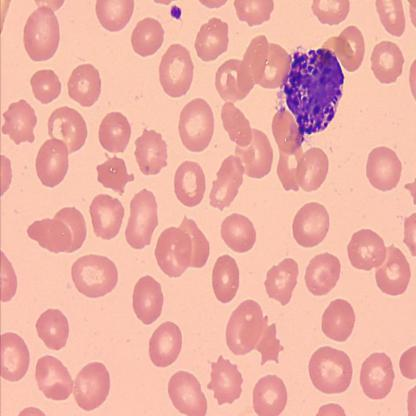Basophil: (281, 45, 346, 139)
